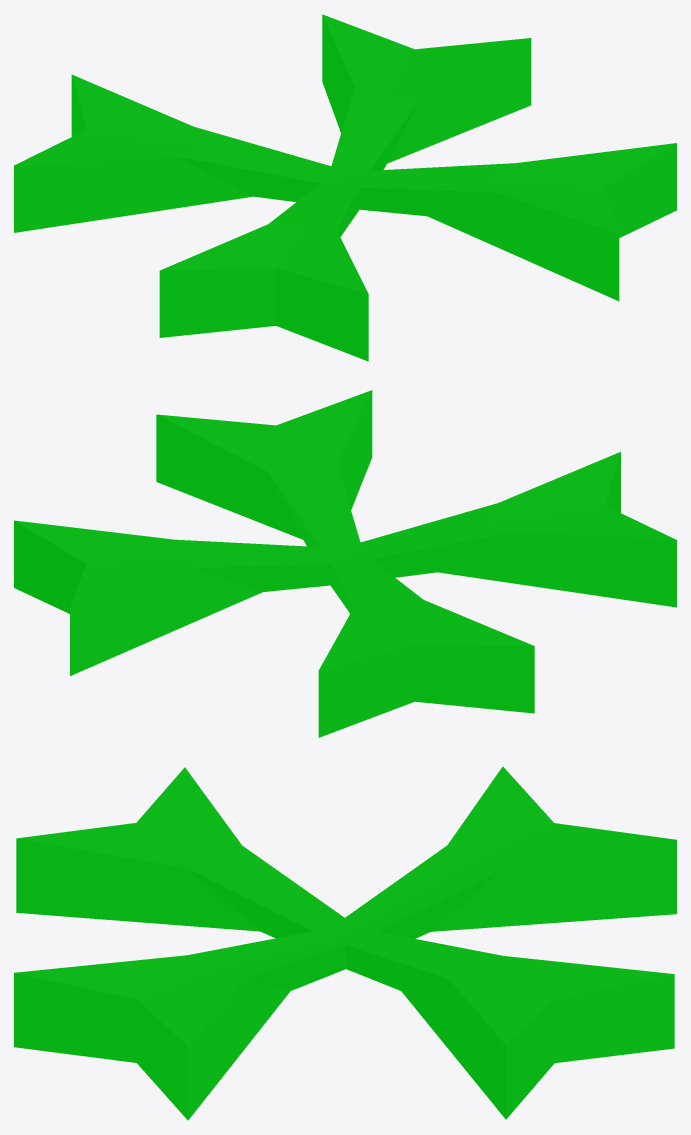
Rendered from 3dCursorCross.glb.
The picture shows the model from 3 angles, top to bottom: view 1: azimuth 30°, elevation 25°; view 2: azimuth 150°, elevation 25°; view 3: azimuth 270°, elevation 25°; orthographic projection. The views are drawn at different scales.
Parts seen in each view (by area): view 1: X; view 2: X; view 3: X.
Part boxes in pixels (x1,y1,x2,y2): X: (14,14,676,361); X: (14,390,676,737); X: (14,766,676,1120).
Size of the model in its own units: 0.8398 by 0.104 by 0.8398.
